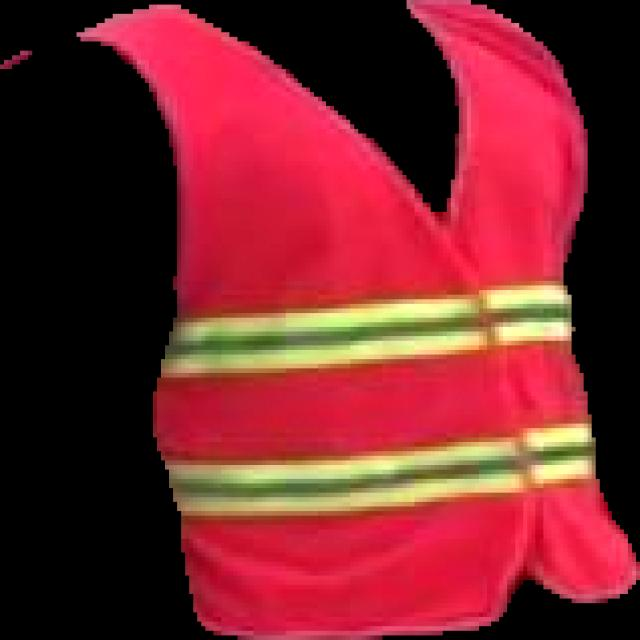Colete: (77, 0, 639, 639)
